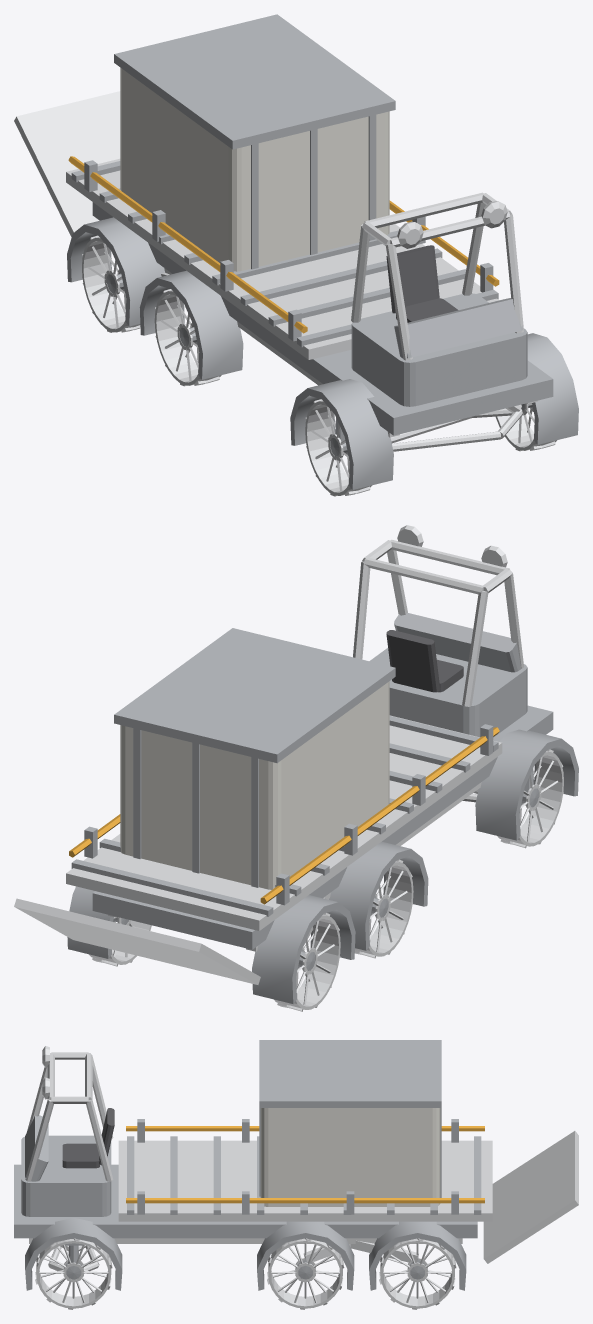
Rendered from cargo-hauler-flatbed-76ce4ade.glb.
3 views of the same model, one above another, from view 1: azimuth 30°, elevation 25°; view 2: azimuth 150°, elevation 25°; view 3: azimuth 270°, elevation 25° (orthographic). The views are drawn at different scales.
Visible parts, largest first — view 1: cargo-hauler-flatbed, ramp, wheel-mid-left, wheel-front-left, wheel-rear-left, wheel-front-right; view 2: cargo-hauler-flatbed, ramp, wheel-rear-left, wheel-mid-left, wheel-front-left, wheel-rear-right; view 3: cargo-hauler-flatbed, ramp, wheel-mid-right, wheel-rear-right, wheel-front-right, bogie-right.
Part boxes in pixels (x1,y1,x2,y2): cargo-hauler-flatbed: (66,14,578,489); ramp: (14,91,120,236); wheel-mid-left: (154,289,221,386); wheel-front-left: (305,399,371,496); wheel-rear-left: (82,235,140,332); wheel-front-right: (495,403,556,451); cargo-hauler-flatbed: (66,525,578,1003); ramp: (14,898,260,984); wheel-rear-left: (274,913,340,1011); wheel-mid-left: (354,859,413,958); wheel-front-left: (497,749,563,848); wheel-rear-right: (89,917,151,966); cargo-hauler-flatbed: (14,1040,492,1290); ramp: (483,1131,578,1263); wheel-mid-right: (267,1238,344,1309); wheel-rear-right: (379,1238,456,1309); wheel-front-right: (35,1238,112,1309); bogie-right: (303,1240,418,1262).
Size of the model in its own units: 2.68 by 3.06 by 7.56.
